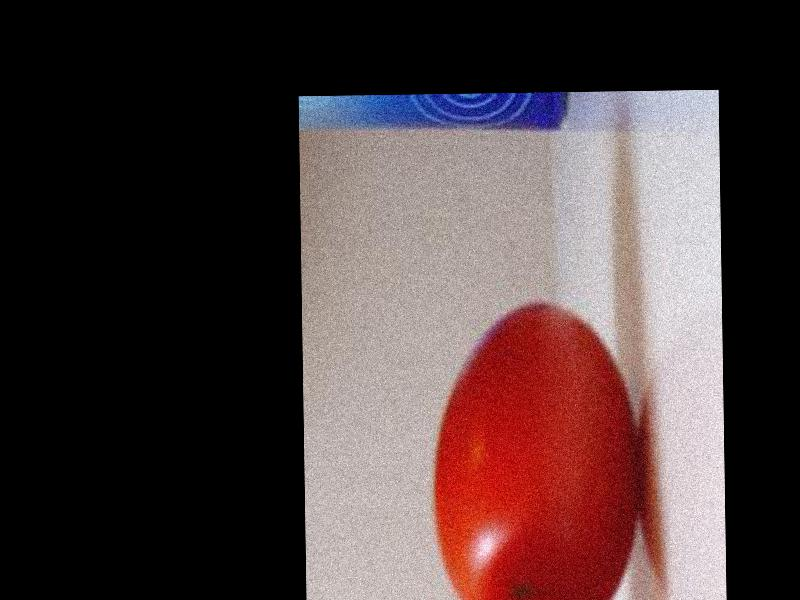Tomato: (432, 303, 643, 600)
